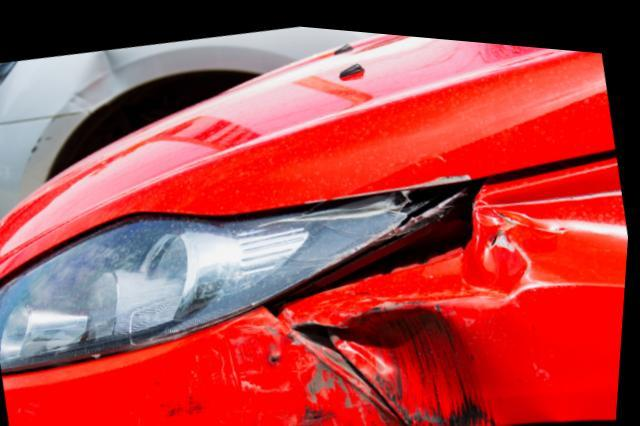dent: (293, 189, 536, 425), (74, 48, 122, 106)
lamp broken: (0, 171, 472, 374)
scratch: (164, 302, 410, 426)
